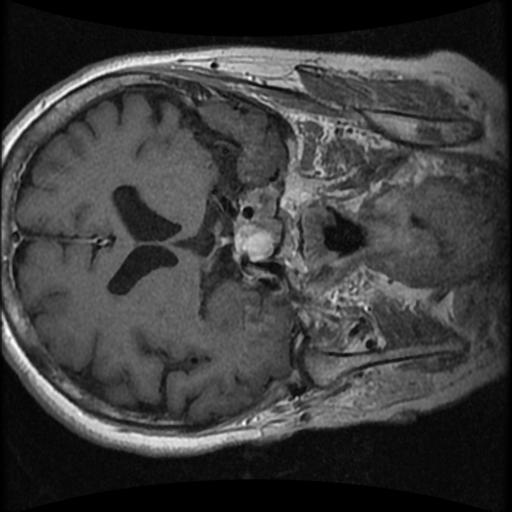pituitary tumour: (234, 221, 281, 261)
